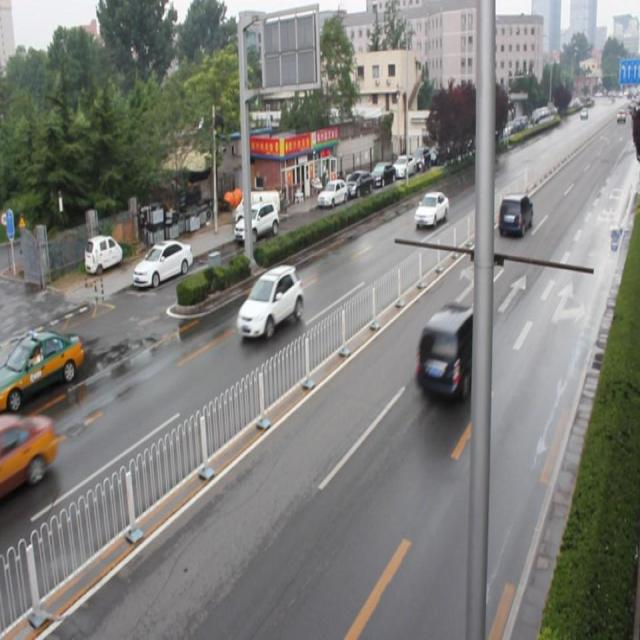car: (238, 268, 304, 342), (412, 189, 448, 233)
truck: (414, 301, 495, 404), (497, 194, 533, 233)
